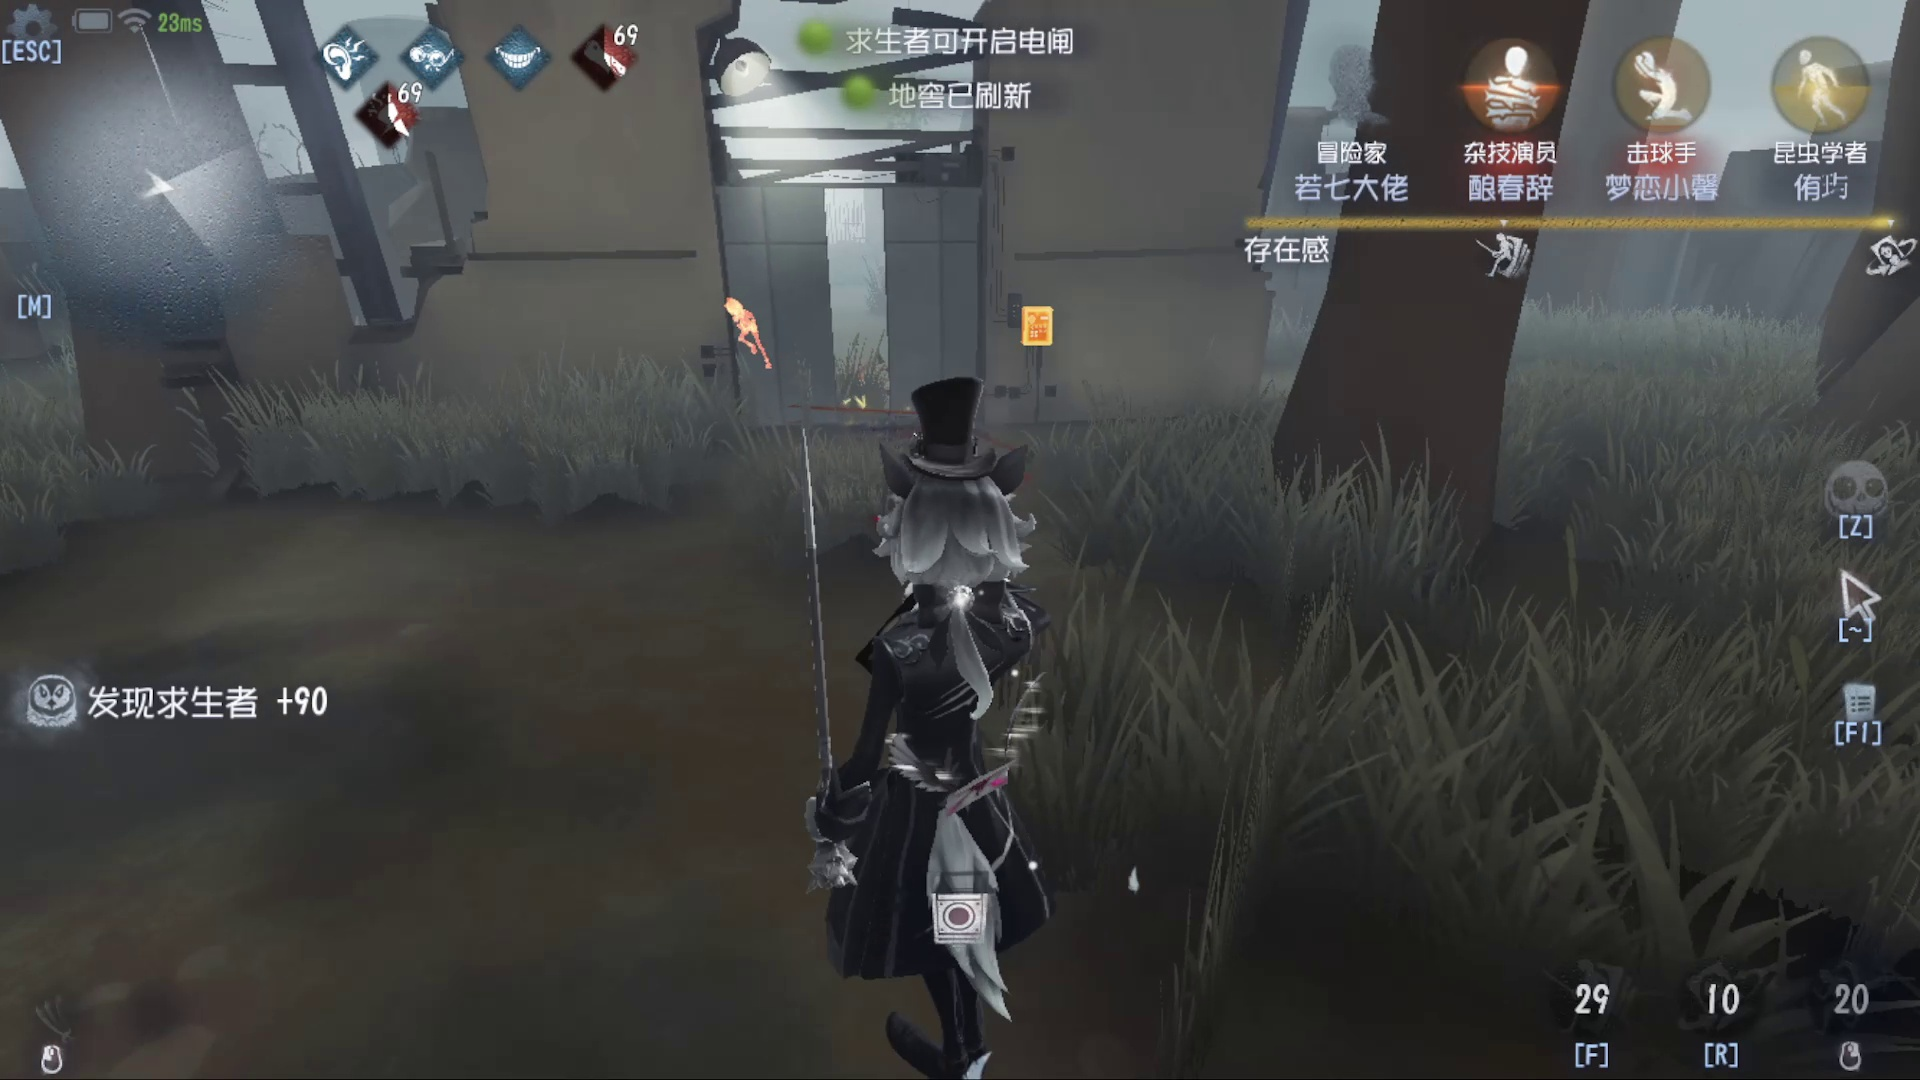求生者: (713, 286, 781, 378)
